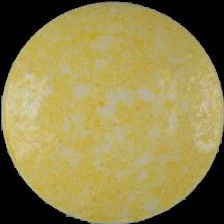50090-0294: (0, 0, 224, 224)
